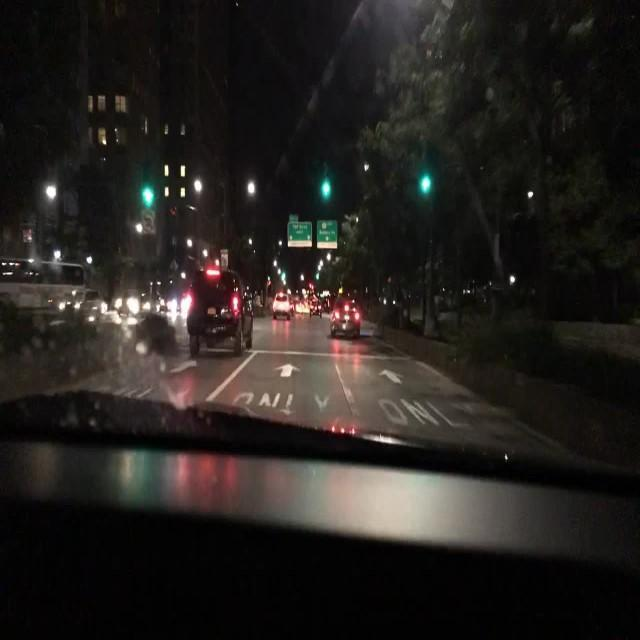normal: (177, 257, 272, 365)
